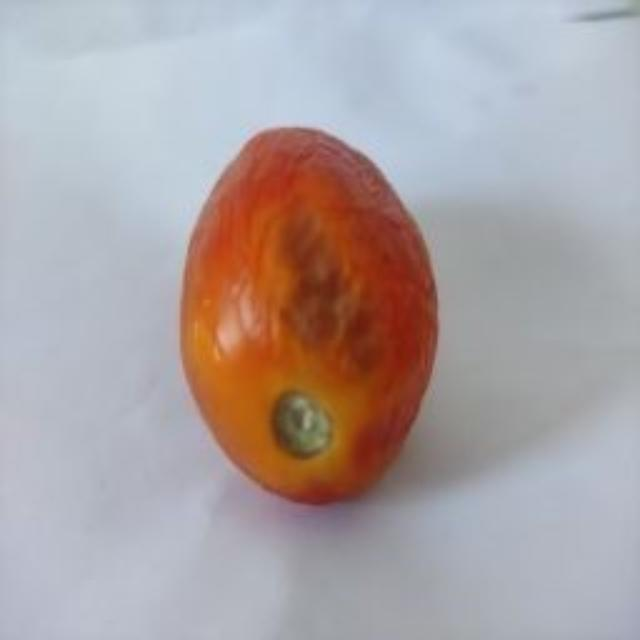defect: (177, 120, 443, 521)
